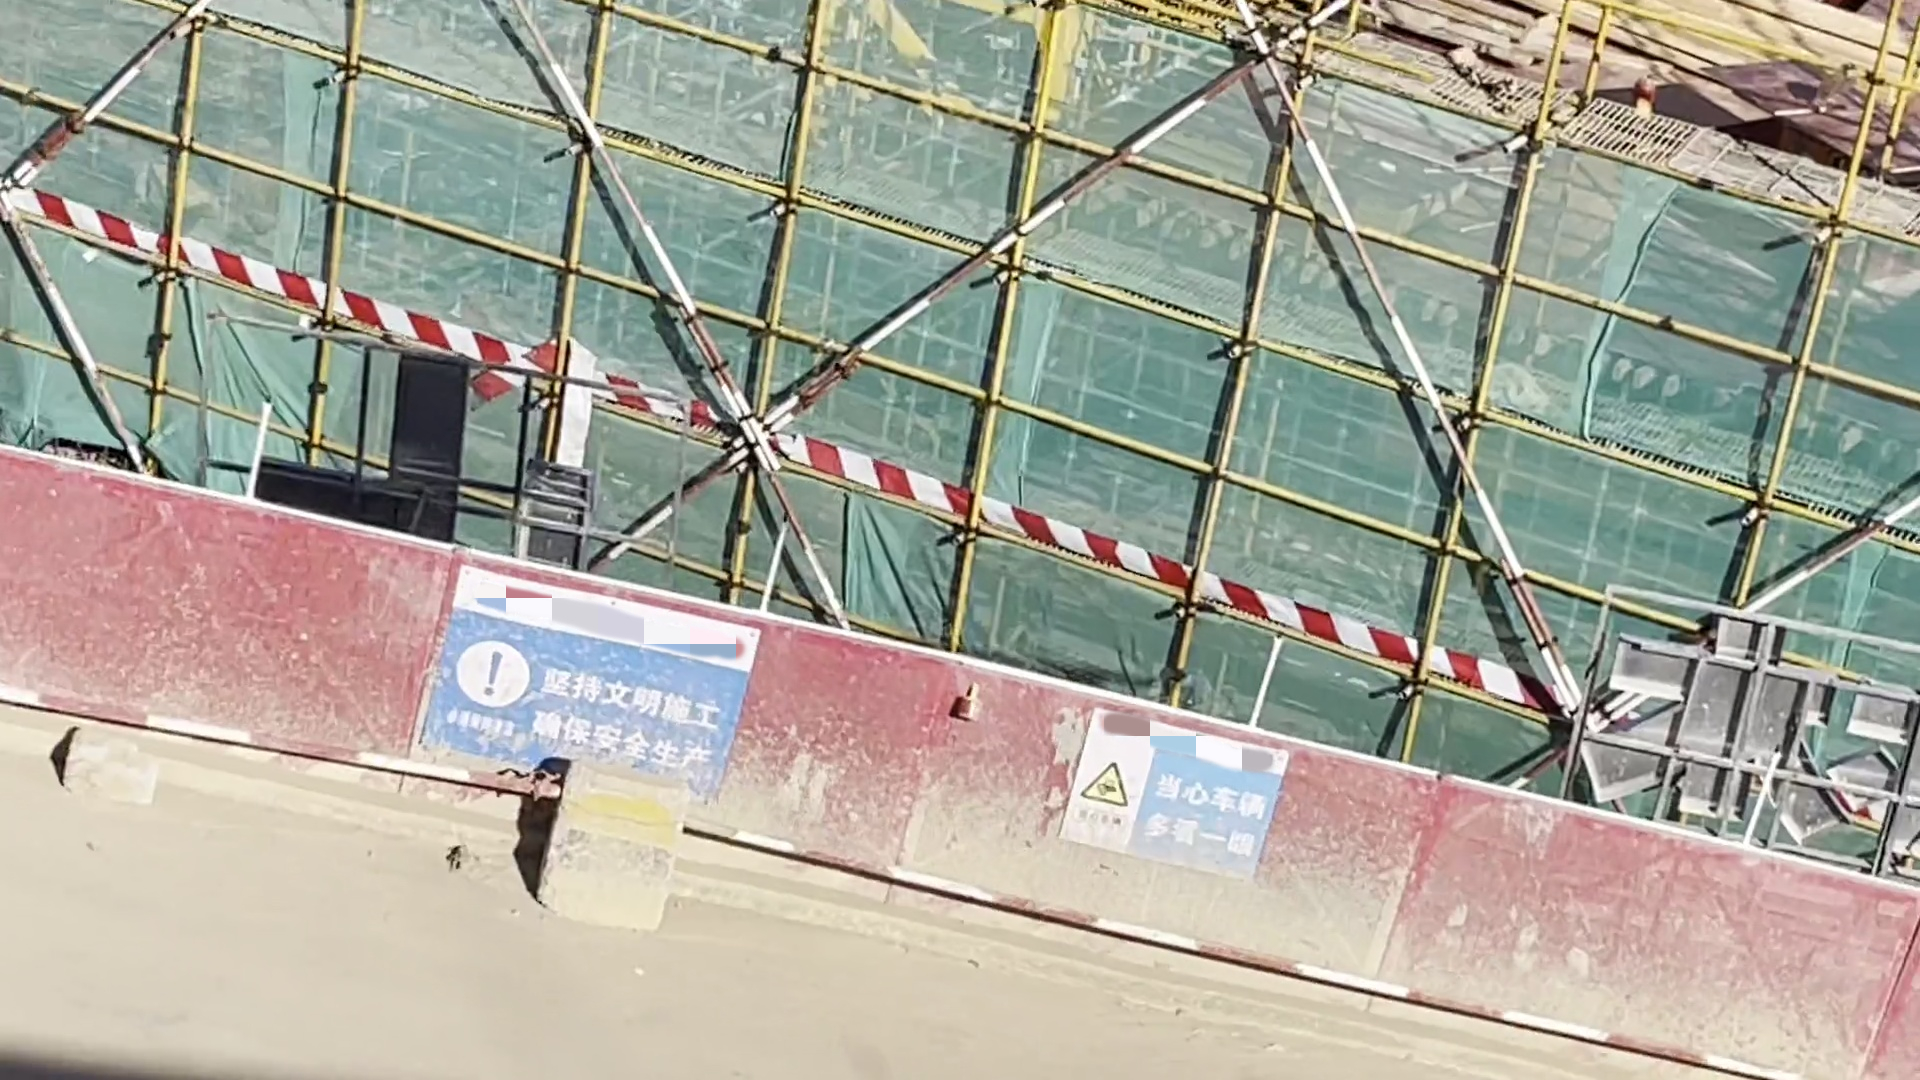fence: (12, 442, 1917, 1080)
slogan: (436, 562, 741, 825), (1062, 698, 1323, 887)
